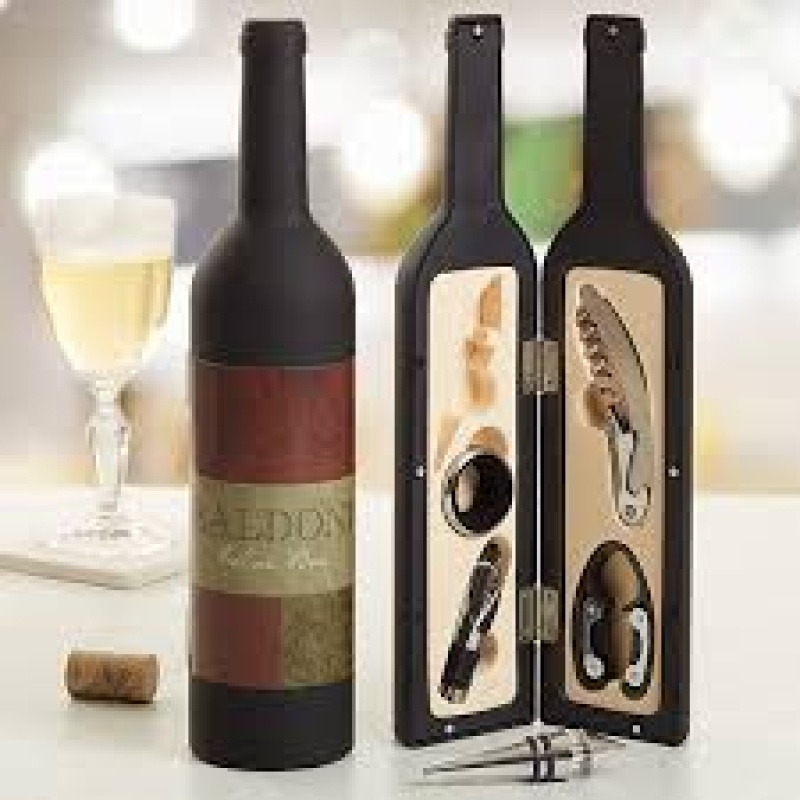wine: (205, 26, 357, 769)
